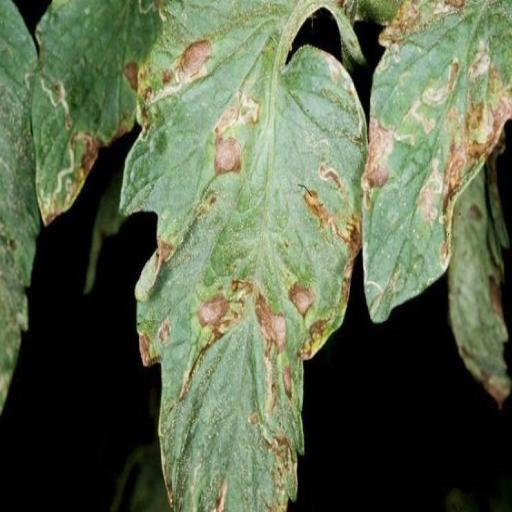Early Blight: (118, 0, 374, 511), (361, 0, 512, 328)
